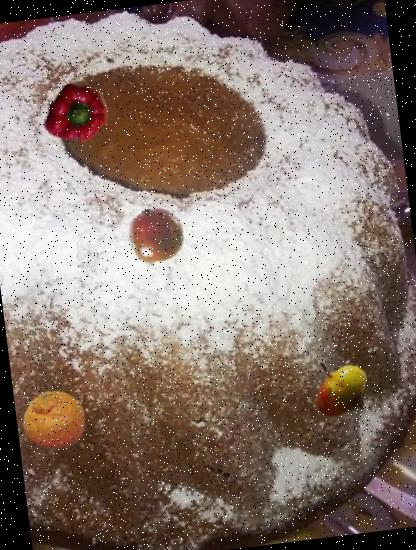Apple: (304, 356, 372, 422)
Mandarine: (20, 386, 90, 456)
Pepper: (42, 79, 113, 150)
Tomato: (126, 205, 188, 267)
